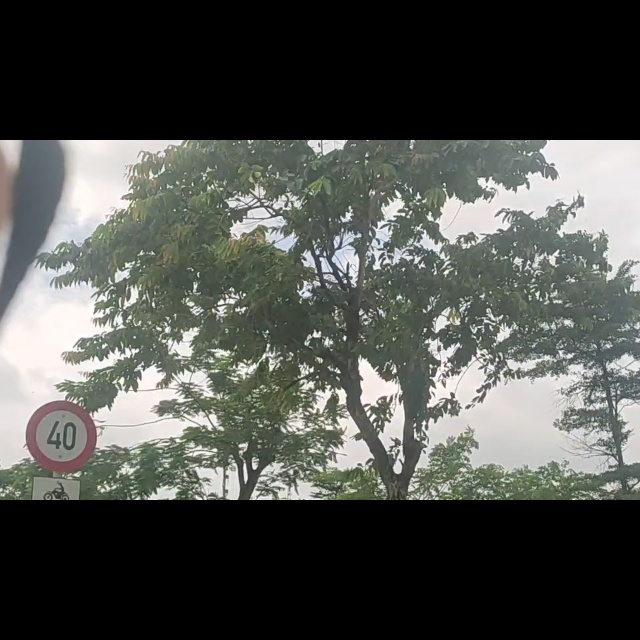Tốc độ tối đa cho phép 40km/h: (25, 400, 97, 471)
